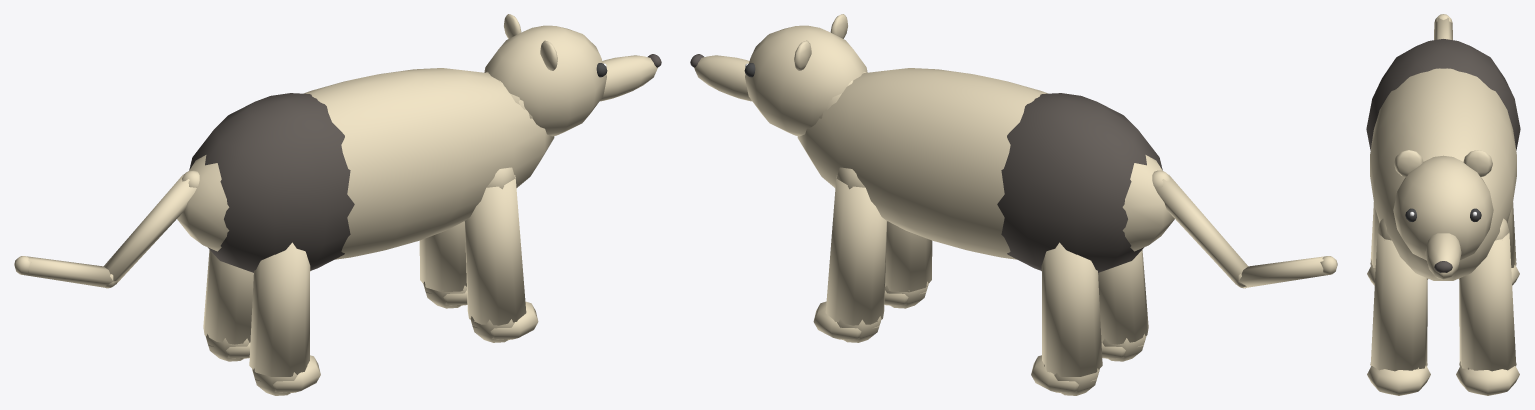
Rendered from southern-tamandua.glb.
3 views of the same model, side by side, from view 1: azimuth 30°, elevation 25°; view 2: azimuth 150°, elevation 25°; view 3: azimuth 270°, elevation 25° (orthographic). The views are drawn at different scales.
Parts seen in each view (by area): view 1: e, e.016, e.002, e.008, e.025, e.011, e.005; view 2: e, e.016, e.005, e.011, e.025, e.008, e.002; view 3: e, e.016, e.002, e.005, e.008, e.011, e.025.
Part boxes in pixels (x1,y1,x2,y2): e: (177, 68, 554, 272); e.016: (484, 14, 661, 136); e.002: (464, 167, 538, 342); e.008: (249, 242, 320, 395); e.025: (14, 170, 199, 288); e.011: (203, 249, 253, 361); e.005: (419, 221, 467, 308); e: (797, 68, 1174, 272); e.016: (690, 14, 867, 136); e.005: (813, 167, 887, 342); e.011: (1031, 242, 1102, 395); e.025: (1152, 170, 1337, 288); e.008: (1098, 249, 1148, 361); e.002: (884, 221, 932, 308); e: (1366, 39, 1520, 280); e.016: (1393, 150, 1493, 279); e.002: (1367, 218, 1430, 395); e.005: (1456, 218, 1519, 395); e.008: (1367, 202, 1427, 285); e.011: (1459, 202, 1519, 285); e.025: (1434, 14, 1452, 39).
Bounding box in the file's own units: 1.24 × 0.5158 × 0.2704.
